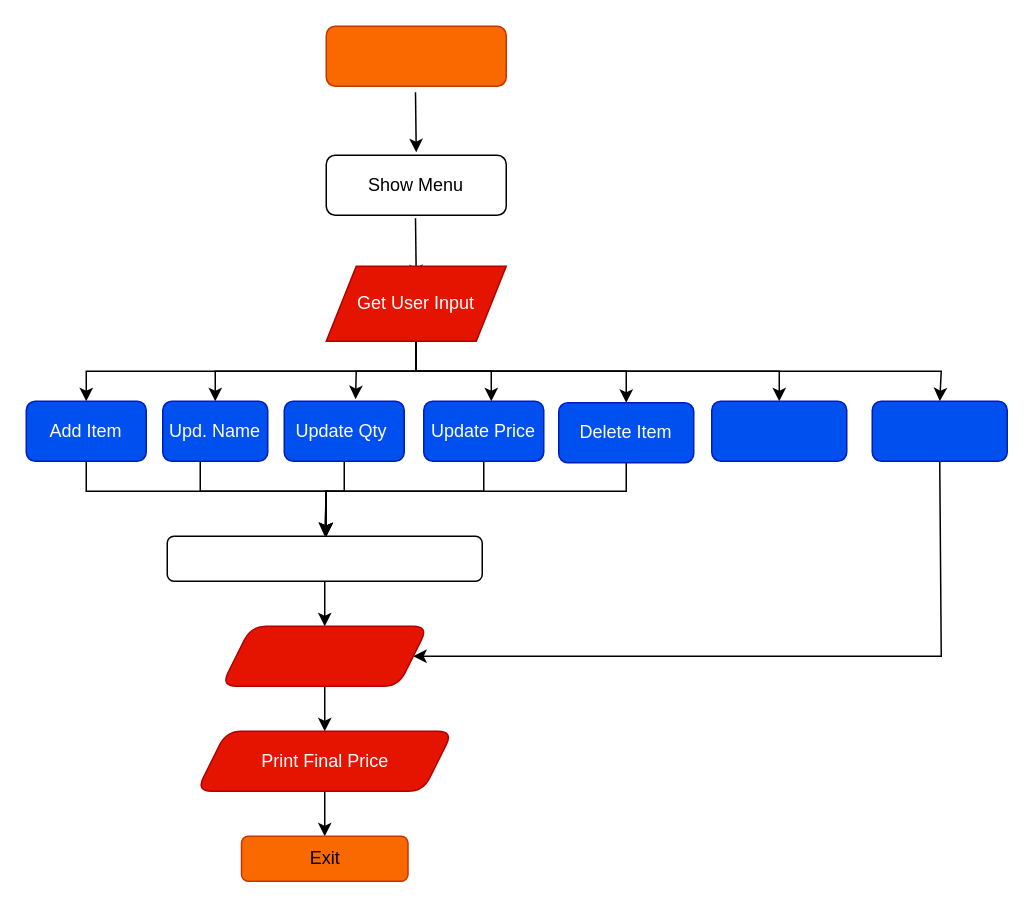
This 1034x908 diagram has some shape labels left out. Each missing label, with the centre of its shape:
"Calculate Total" goes at pixel 324 655.
"Reset Trnsct" goes at pixel 778 430.
"Show Summary" goes at pixel 939 430.
"Start Program" goes at pixel 415 55.
"Store item in transaction" goes at pixel 324 558.
